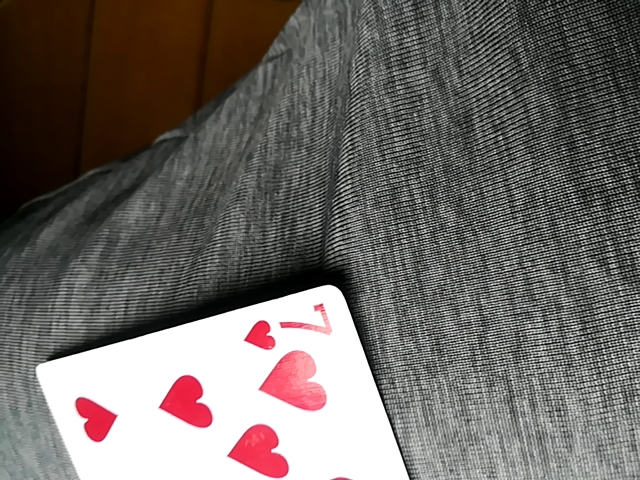hx 7: (44, 289, 414, 476)
